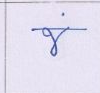anusvara: (61, 13, 65, 16)
